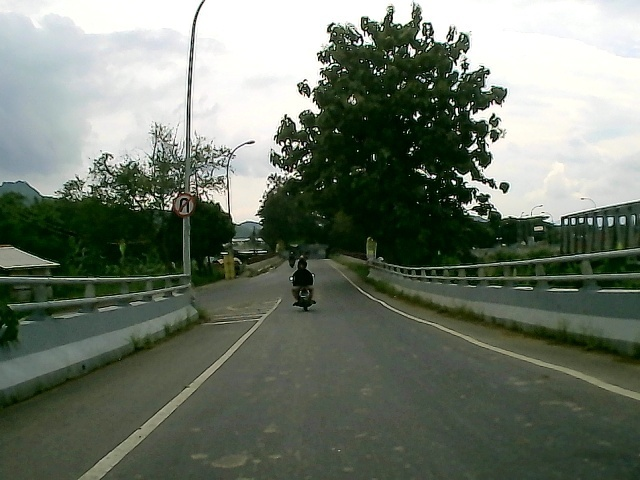Dilarang berbalik arah: (171, 192, 196, 219)
